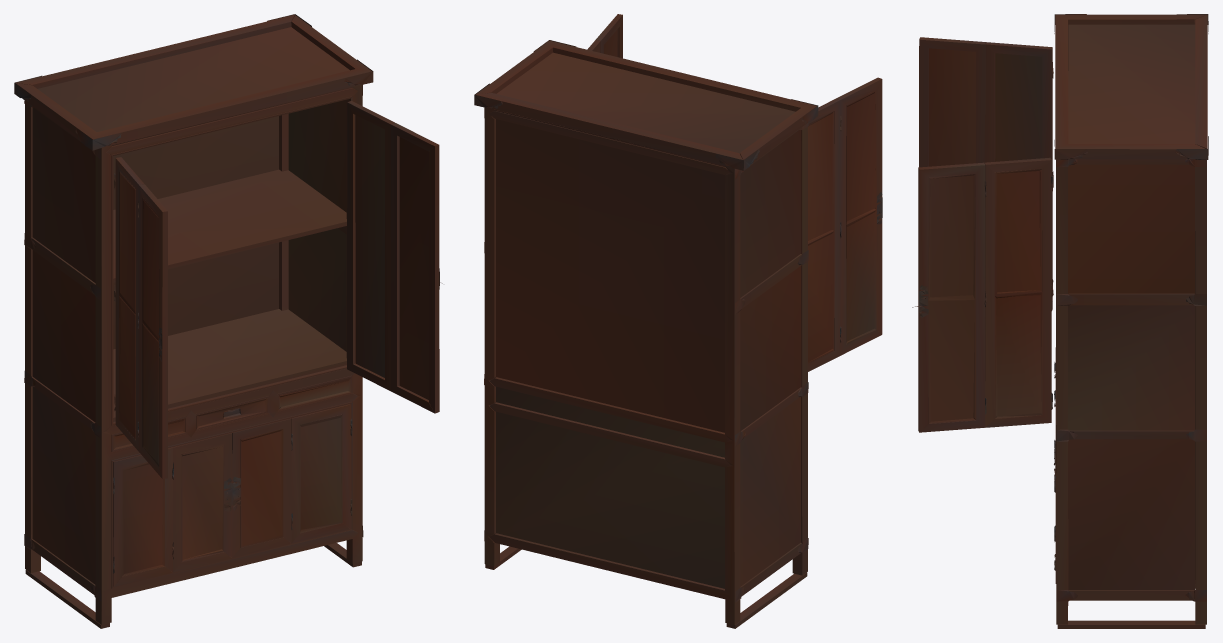
File: opened.glb
3 views of the same model, side by side, from view 1: azimuth 30°, elevation 25°; view 2: azimuth 150°, elevation 25°; view 3: azimuth 270°, elevation 25° (orthographic). The views are drawn at different scales.
Visible parts, largest first — view 1: SM_Unhyun_Cupboard226_body_M_Cupboard226_0; view 2: SM_Unhyun_Cupboard226_body_M_Cupboard226_0; view 3: SM_Unhyun_Cupboard226_body_M_Cupboard226_0.
Boxes of the visible parts, left/top/right/bottom form: SM_Unhyun_Cupboard226_body_M_Cupboard226_0: left=14, top=14, right=442, bottom=628; SM_Unhyun_Cupboard226_body_M_Cupboard226_0: left=474, top=14, right=882, bottom=628; SM_Unhyun_Cupboard226_body_M_Cupboard226_0: left=912, top=14, right=1208, bottom=628.
Bounding box in the file's own units: 1.19 × 1.98 × 1.1.
